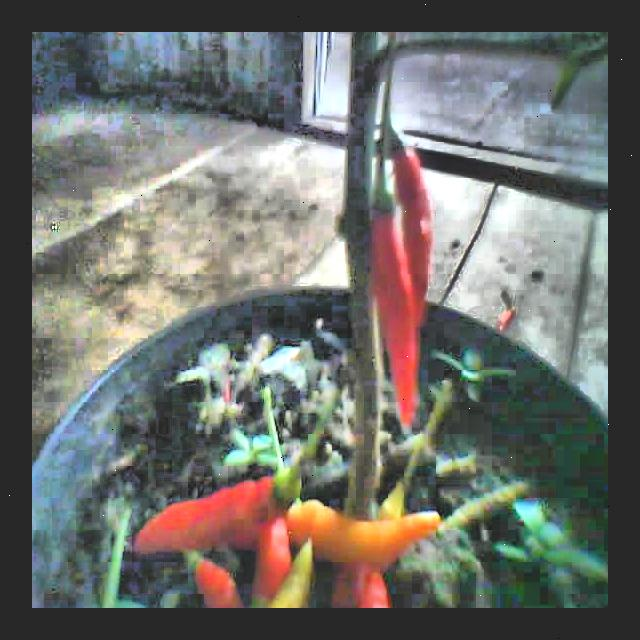Cabai: (357, 106, 476, 430), (136, 457, 305, 554)
